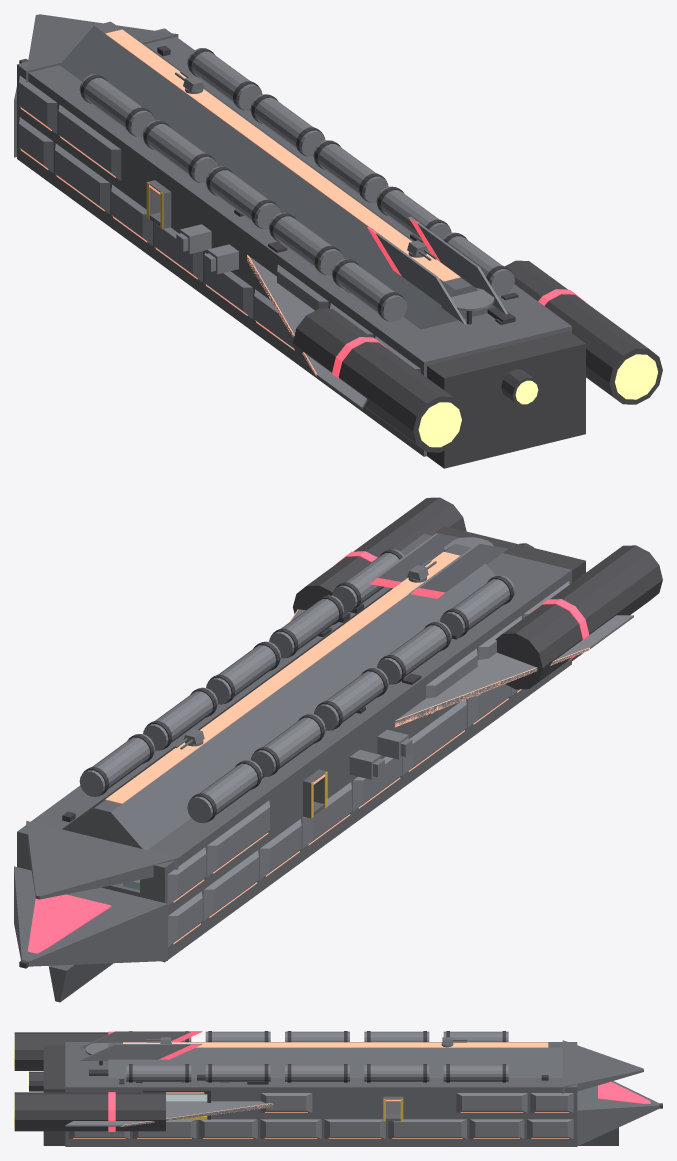
File: ship_SMALL_SUPPORT.glb
3 renders of one model, top to bottom at view 1: azimuth 30°, elevation 25°; view 2: azimuth 150°, elevation 25°; view 3: azimuth 270°, elevation 25°, orthographic. The views are drawn at different scales.
Visible parts, largest first — view 1: SMALL_SUPPORT_Hull-col, SMALL_SUPPORT_Armor, SMALL_SUPPORT_Engines, SMALL_SUPPORT_Lights, SMALL_SUPPORT_Trim, SMALL_SUPPORT_EngineGlow, SMALL_SUPPORT_Accent, SMALL_SUPPORT_EscapePod_2, SMALL_SUPPORT_EscapePod_1, SMALL_SUPPORT_Details; view 2: SMALL_SUPPORT_Hull-col, SMALL_SUPPORT_Armor, SMALL_SUPPORT_Engines, SMALL_SUPPORT_Lights, SMALL_SUPPORT_Accent, SMALL_SUPPORT_Trim, SMALL_SUPPORT_EscapePod_2, SMALL_SUPPORT_EscapePod_1; view 3: SMALL_SUPPORT_Hull-col, SMALL_SUPPORT_Armor, SMALL_SUPPORT_Engines, SMALL_SUPPORT_Lights, SMALL_SUPPORT_Trim, SMALL_SUPPORT_Accent, SMALL_SUPPORT_Details, SMALL_SUPPORT_CargoBayDoor-col, SMALL_SUPPORT_CargoBayShield, SMALL_SUPPORT_Hazard, SMALL_SUPPORT_Airlock_2_OuterDoor-col.
Boxes of the visible parts, x1=… form: SMALL_SUPPORT_Hull-col: x1=14, y1=14, x2=571, y2=456; SMALL_SUPPORT_Armor: x1=19, y1=48, x2=514, y2=409; SMALL_SUPPORT_Engines: x1=19, y1=59, x2=662, y2=468; SMALL_SUPPORT_Lights: x1=20, y1=29, x2=460, y2=376; SMALL_SUPPORT_Trim: x1=80, y1=48, x2=514, y2=324; SMALL_SUPPORT_EngineGlow: x1=418, y1=354, x2=657, y2=447; SMALL_SUPPORT_Accent: x1=332, y1=217, x2=584, y2=378; SMALL_SUPPORT_EscapePod_2: x1=176, y1=224, x2=211, y2=253; SMALL_SUPPORT_EscapePod_1: x1=204, y1=244, x2=238, y2=274; SMALL_SUPPORT_Details: x1=157, y1=45, x2=518, y2=324; SMALL_SUPPORT_Hull-col: x1=14, y1=534, x2=571, y2=1002; SMALL_SUPPORT_Armor: x1=79, y1=533, x2=633, y2=947; SMALL_SUPPORT_Engines: x1=19, y1=497, x2=662, y2=968; SMALL_SUPPORT_Lights: x1=105, y1=551, x2=589, y2=944; SMALL_SUPPORT_Accent: x1=27, y1=551, x2=589, y2=953; SMALL_SUPPORT_Trim: x1=82, y1=549, x2=513, y2=822; SMALL_SUPPORT_EscapePod_2: x1=349, y1=750, x2=384, y2=779; SMALL_SUPPORT_EscapePod_1: x1=377, y1=729, x2=412, y2=759; SMALL_SUPPORT_Hull-col: x1=65, y1=1040, x2=659, y2=1146; SMALL_SUPPORT_Armor: x1=65, y1=1031, x2=573, y2=1138; SMALL_SUPPORT_Engines: x1=14, y1=1032, x2=662, y2=1145; SMALL_SUPPORT_Lights: x1=73, y1=1042, x2=569, y2=1138; SMALL_SUPPORT_Trim: x1=99, y1=1031, x2=505, y2=1119; SMALL_SUPPORT_Accent: x1=108, y1=1031, x2=650, y2=1131; SMALL_SUPPORT_Details: x1=89, y1=1069, x2=548, y2=1084; SMALL_SUPPORT_CargoBayDoor-col: x1=166, y1=1094, x2=207, y2=1101; SMALL_SUPPORT_CargoBayShield: x1=166, y1=1094, x2=207, y2=1101; SMALL_SUPPORT_Hazard: x1=176, y1=1099, x2=403, y2=1121; SMALL_SUPPORT_Airlock_2_OuterDoor-col: x1=386, y1=1101, x2=400, y2=1114.
Size of the model in its own units: 27.41 by 16.45 by 90.
